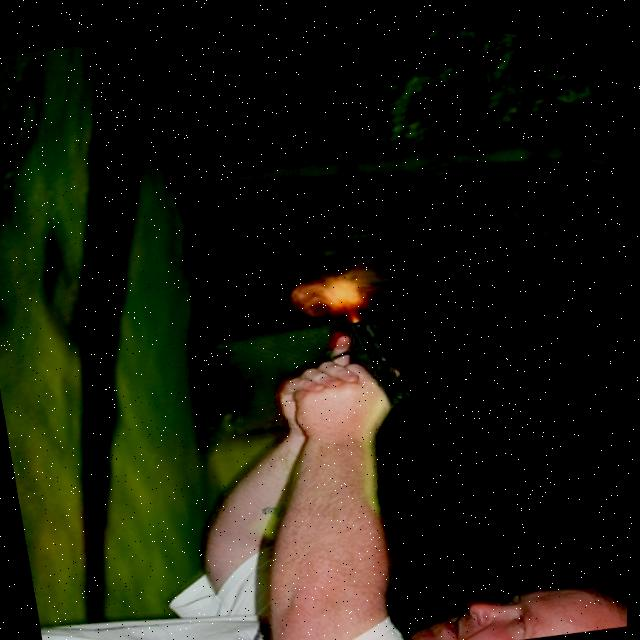pistol: (324, 309, 415, 415)
